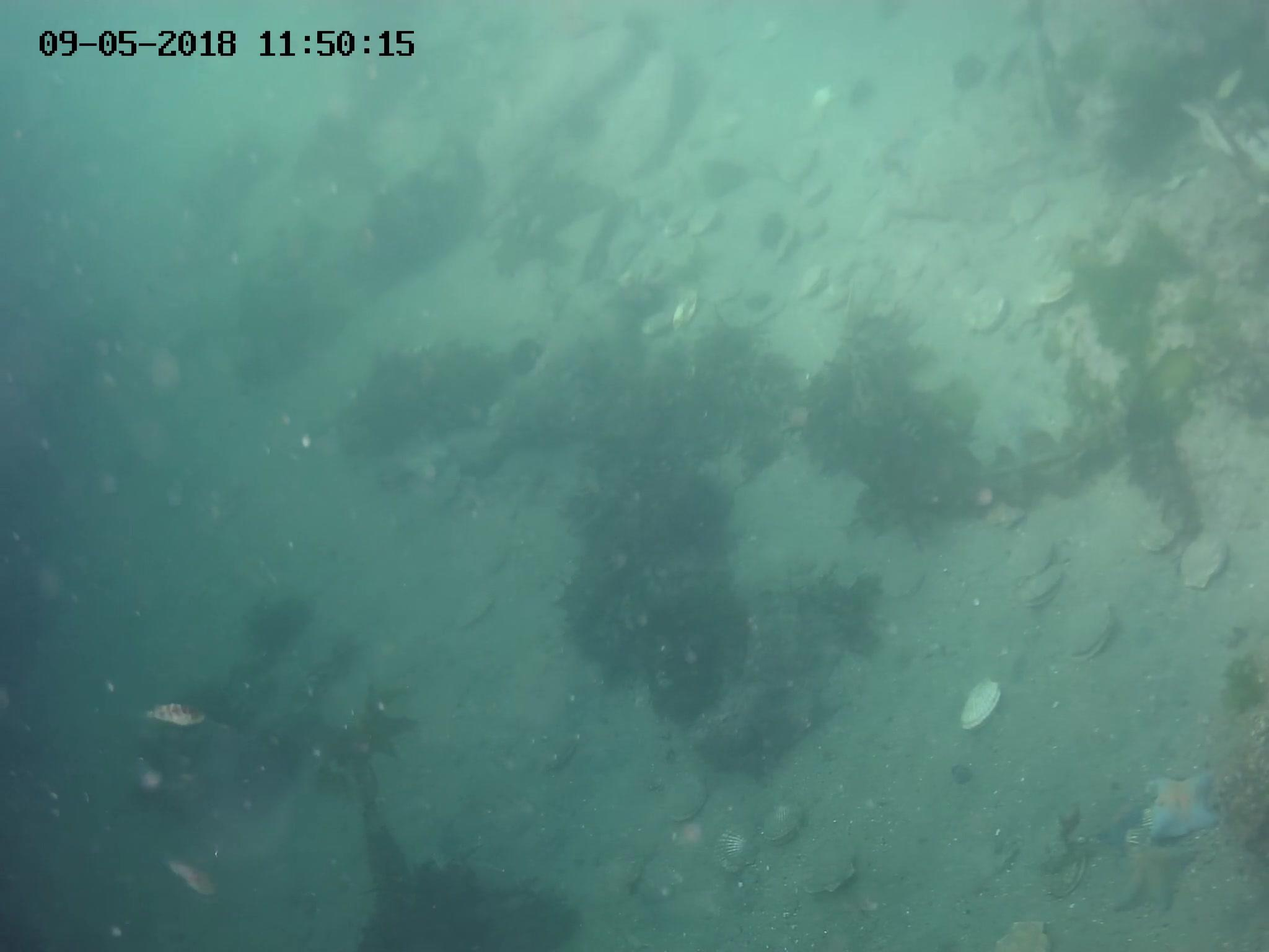holothurian: (1103, 841, 1200, 917), (1145, 770, 1226, 844)
scallop: (1177, 534, 1233, 592), (1064, 602, 1117, 662), (956, 679, 1006, 734), (714, 824, 760, 880), (803, 852, 860, 896), (760, 798, 810, 847), (1028, 268, 1084, 309), (1012, 539, 1060, 584), (1014, 565, 1058, 614), (990, 919, 1053, 952), (665, 777, 709, 824), (876, 565, 930, 602), (779, 142, 820, 187), (969, 287, 1008, 333), (450, 594, 498, 631), (1007, 189, 1048, 226), (672, 290, 703, 333), (1140, 526, 1180, 555), (686, 206, 721, 238), (542, 743, 578, 774), (773, 228, 802, 266), (986, 504, 1028, 530), (637, 311, 677, 337), (800, 267, 826, 299), (819, 286, 848, 314), (802, 179, 832, 206)
